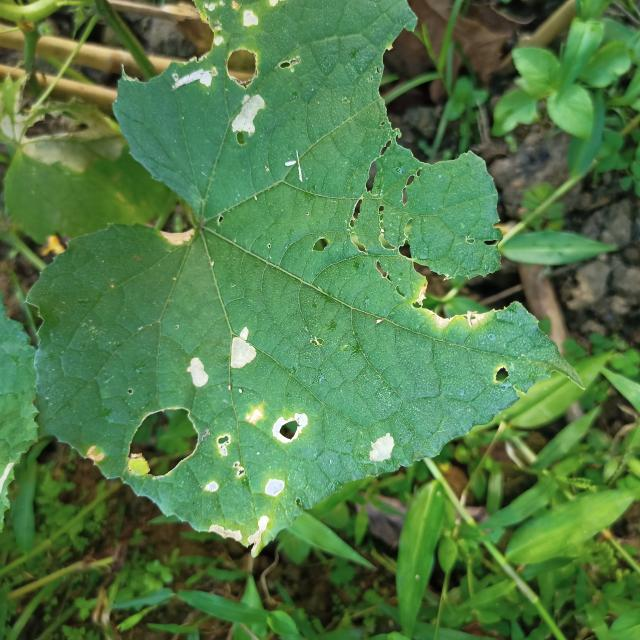disease_cucumber: (196, 400, 404, 559), (162, 4, 300, 144), (182, 328, 260, 399)
